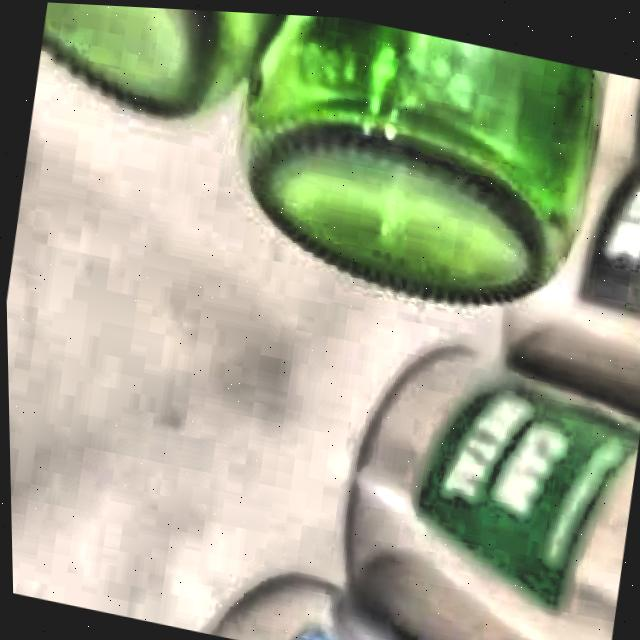glass: (40, 2, 607, 298)
